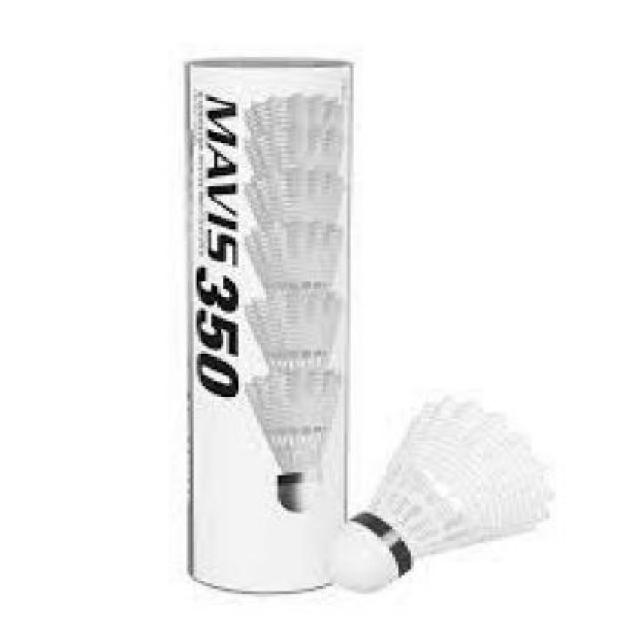Shuttlecock: (328, 395, 555, 594)
